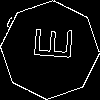E: (25, 25, 73, 61)
